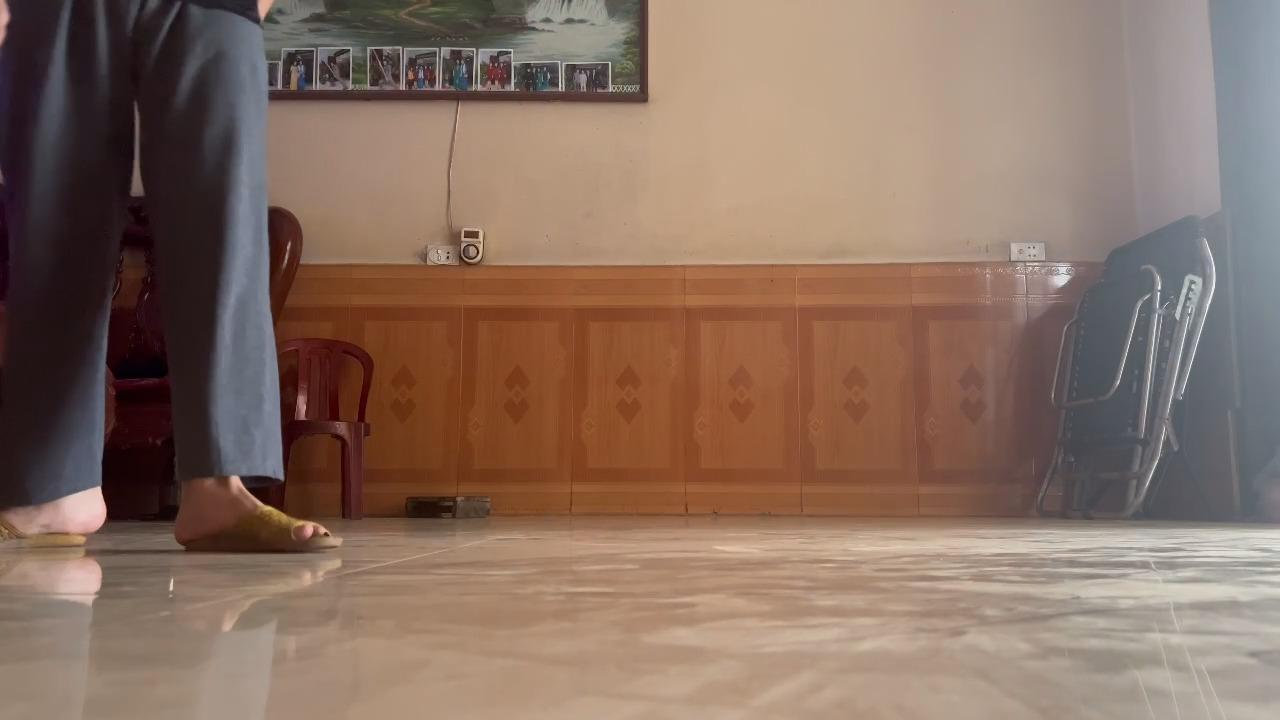no-boot: (169, 487, 355, 568), (0, 492, 117, 557)
